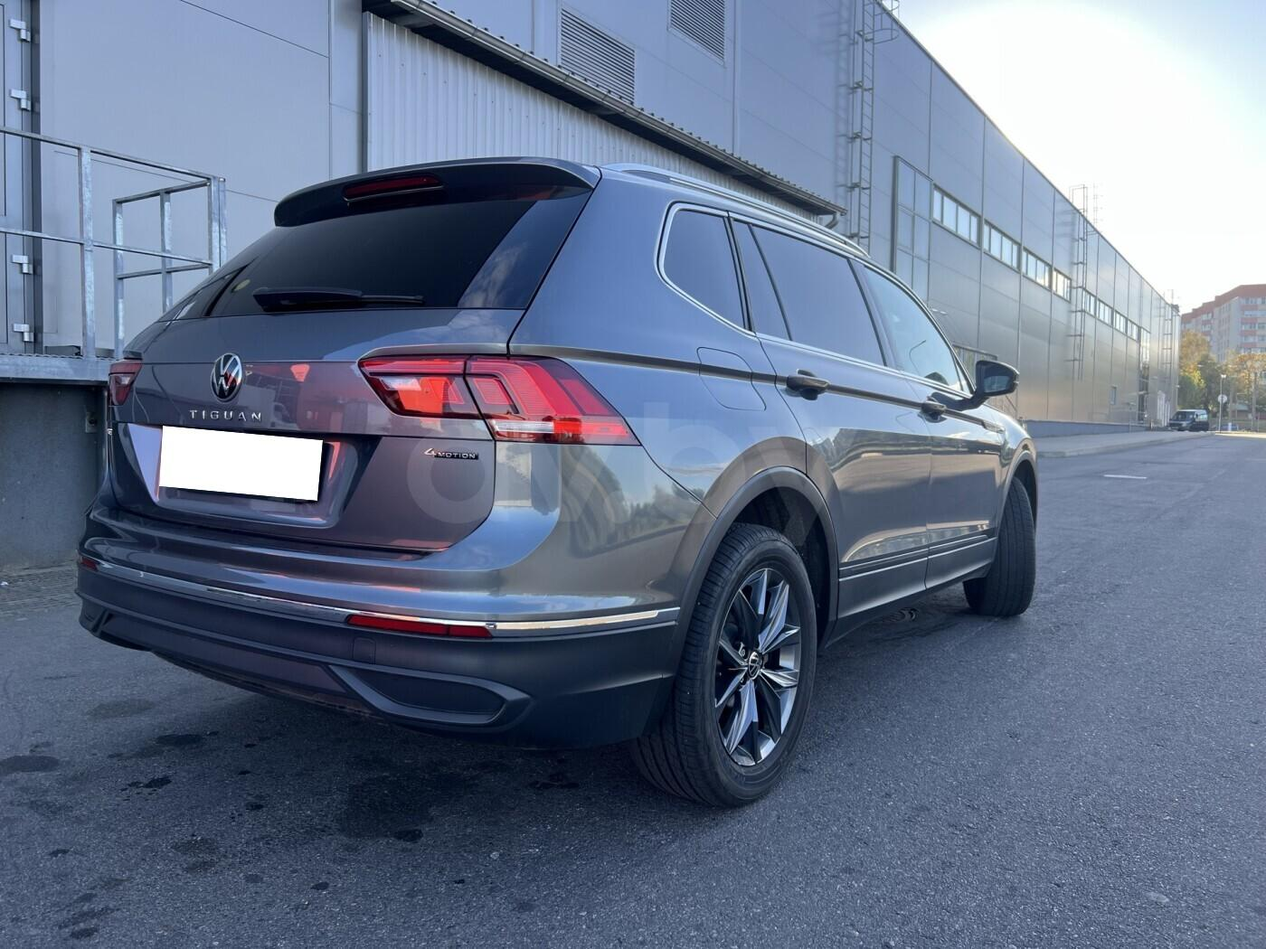Tiguan_2020-2024: (71, 152, 1044, 801)
